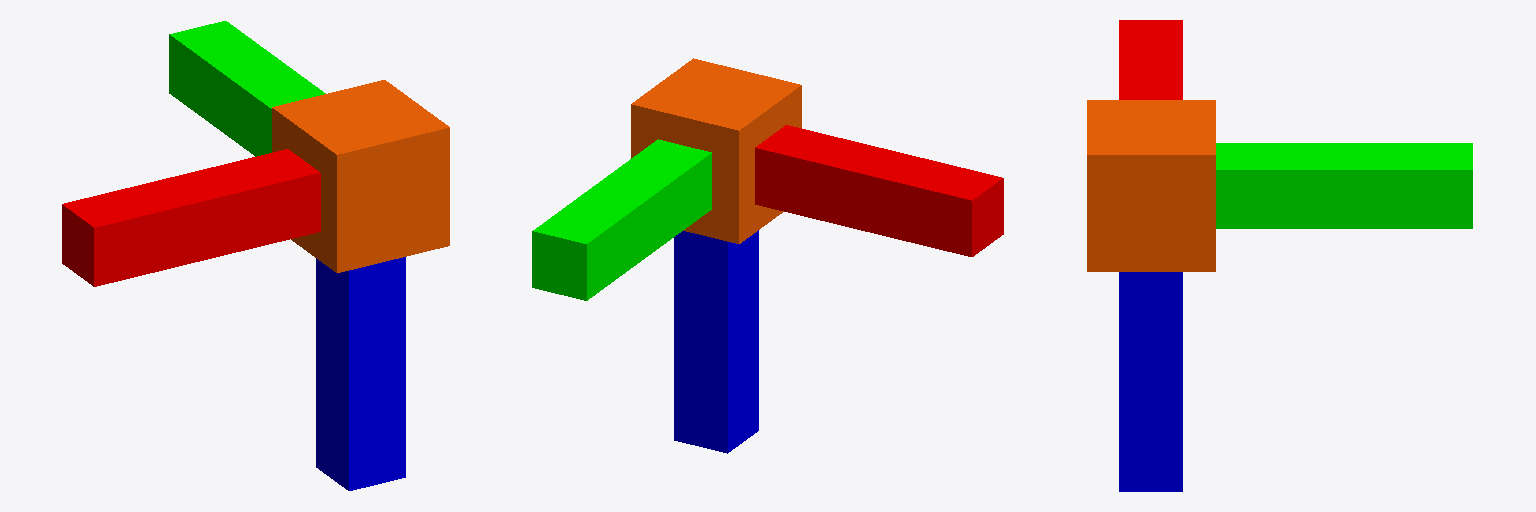
The robot description file, URDF, robot "lbr_iiwa":
<?xml version="1.0" ?>
<!-- ======================================================================= -->
<!-- | This document was autogenerated by xacro from lbr_iiwa.urdf.xacro   | -->
<!-- | Original xacro: https://github.com/rtkg/lbr_iiwa/archive/master.zip | -->
<!-- | EDITING THIS FILE BY HAND IS NOT RECOMMENDED                        | -->
<!-- | Changes ([author]):                                                 | -->
<!-- |   * Removed gazebo tags.                                            | -->
<!-- |   * Removed unused materials.                                       | -->
<!-- |   * Made mesh paths relative.                                       | -->
<!-- |   * Removed material fields from collision segments.                | -->
<!-- |   * Removed the self_collision_checking segment.                    | -->
<!-- |   * Removed transmission segments, since they didn't match the      | -->
<!-- |     convention, will have to added back later.                      | -->
<!-- ======================================================================= -->
<!--LICENSE:                                                                 -->
<!--Copyright (c) 2015, [author] & [author], AASS Research Center,  -->
<!--Orebro University, Sweden                                                -->
<!--All rights reserved.                                                     -->
<!--                                                                         -->
<!--Redistribution and use in source and binary forms, with or without       -->
<!--modification, are permitted provided that the following conditions are   -->
<!--met:                                                                     -->
<!--                                                                         -->
<!--1. Redistributions of source code must retain the above copyright notice,-->
<!--   this list of conditions and the following disclaimer.                 -->
<!--                                                                         -->
<!--2. Redistributions in binary form must reproduce the above copyright     -->
<!--   notice, this list of conditions and the following disclaimer in the   -->
<!--   documentation and/or other materials provided with the distribution.  -->
<!--                                                                         -->
<!--THIS SOFTWARE IS PROVIDED BY THE COPYRIGHT [author] "AS  -->
<!--IS" AND ANY EXPRESS OR IMPLIED WARRANTIES, INCLUDING, BUT NOT LIMITED TO,-->
<!--THE IMPLIED WARRANTIES OF MERCHANTABILITY AND FITNESS FOR A PARTICULAR   -->
<!--PURPOSE ARE DISCLAIMED. IN NO EVENT SHALL THE COPYRIGHT [author]        -->
<!--CONTRIBUTORS BE LIABLE FOR ANY DIRECT, INDIRECT, INCIDENTAL, SPECIAL,    -->
<!--EXEMPLARY, OR CONSEQUENTIAL DAMAGES (INCLUDING, BUT NOT LIMITED TO,      -->
<!--PROCUREMENT OF SUBSTITUTE GOODS OR SERVICES; LOSS OF USE, DATA, OR       -->
<!--PROFITS; OR BUSINESS INTERRUPTION) HOWEVER CAUSED AND ON ANY THEORY OF   -->
<!--LIABILITY, WHETHER IN CONTRACT, STRICT LIABILITY, OR TORT (INCLUDING     -->
<!--NEGLIGENCE OR OTHERWISE) ARISING IN ANY WAY OUT OF THE USE OF THIS       -->
<!--SOFTWARE, EVEN IF ADVISED OF THE POSSIBILITY OF SUCH DAMAGE.             -->
<robot name="lbr_iiwa" xmlns:xacro="http://www.ros.org/wiki/xacro">
  <!-- Import Rviz colors -->
  <material name="Grey">
    <color rgba="0.2 0.2 0.2 1.0"/>
  </material>
  <material name="Orange">
    <color rgba="1.0 0.423529411765 0.0392156862745 1.0"/>
  </material>
  <material name="Blue">
    <color rgba="0.5 0.7 1.0 1.0"/>
  </material>
  <material name="White">
    <color rgba="0.9 0.85 0.9 1.0"/>
    <diffuse>0.9 0.9 0.9 1</diffuse>
    <specular>0.1 0.1 0.1 1</specular>
  </material>
  <material name="marker_red">
    <color rgba="1.0 0.0 0.0 1.0"/>
  </material>
  <material name="marker_green">
    <color rgba="0.0 1.0 0.0 1.0"/>
  </material>
  <material name="marker_blue">
    <color rgba="0.0 0.0 1.0 1.0"/>
  </material>
  <!--Import the lbr iiwa macro -->
  <!--Import Transmissions -->
  <!--Include Utilities -->
  <!--The following macros are adapted from the LWR 4 definitions of the RCPRG - https://github.com/RCPRG-ros-pkg/lwr_robot -->
  <!--Little helper macros to define the inertia matrix needed for links.-->
  <!--Cuboid-->
  <!--Cylinder: length is along the y-axis! -->
  <!--lbr-->
  <link name="lbr_iiwa_link_0">
    <inertial>
      <origin rpy="0 0 0" xyz="-0.1 0 0.07"/>
      <!--Increase mass from 5 Kg original to provide a stable base to carry the
          arm.-->
      <mass value="0.0"/>
      <inertia ixx="0.05" ixy="0" ixz="0" iyy="0.06" iyz="0" izz="0.03"/>
    </inertial>
    <visual>
      <origin rpy="0 0 0" xyz="0 0 0"/>
      <geometry>
        <mesh filename="meshes/link_0.obj"/>
      </geometry>
      <material name="Grey"/>
    </visual>
    <collision>
      <origin rpy="0 0 0" xyz="0 0 0"/>
      <geometry>
        <mesh filename="meshes/link_0.stl"/>
      </geometry>
    </collision>
  </link>
  <!-- joint between link_0 and link_1 -->
  <joint name="lbr_iiwa_joint_1" type="revolute">
    <parent link="lbr_iiwa_link_0"/>
    <child link="lbr_iiwa_link_1"/>
    <origin rpy="0 0 0" xyz="0 0 0.1575"/>
    <axis xyz="0 0 1"/>
    <limit effort="300" lower="-2.96705972839" upper="2.96705972839" velocity="10"/>
    <dynamics damping="0.5"/>
  </joint>
  <link name="lbr_iiwa_link_1">
    <inertial>
      <origin rpy="0 0 0" xyz="0 -0.03 0.12"/>
      <mass value="4"/>
      <inertia ixx="0.1" ixy="0" ixz="0" iyy="0.09" iyz="0" izz="0.02"/>
    </inertial>
    <visual>
      <origin rpy="0 0 0" xyz="0 0 0"/>
      <geometry>
        <mesh filename="meshes/link_1.obj"/>
      </geometry>
      <material name="Blue"/>
    </visual>
    <collision>
      <origin rpy="0 0 0" xyz="0 0 0"/>
      <geometry>
        <mesh filename="meshes/link_1.stl"/>
      </geometry>
    </collision>
  </link>
  <!-- joint between link_1 and link_2 -->
  <joint name="lbr_iiwa_joint_2" type="revolute">
    <parent link="lbr_iiwa_link_1"/>
    <child link="lbr_iiwa_link_2"/>
    <origin rpy="1.57079632679   0 3.14159265359" xyz="0 0 0.2025"/>
    <axis xyz="0 0 1"/>
    <limit effort="300" lower="-2.09439510239" upper="2.09439510239" velocity="10"/>
    <dynamics damping="0.5"/>
  </joint>
  <link name="lbr_iiwa_link_2">
    <inertial>
      <origin rpy="0 0 0" xyz="0.0003 0.059 0.042"/>
      <mass value="4"/>
      <inertia ixx="0.05" ixy="0" ixz="0" iyy="0.018" iyz="0" izz="0.044"/>
    </inertial>
    <visual>
      <origin rpy="0 0 0" xyz="0 0 0"/>
      <geometry>
        <mesh filename="meshes/link_2.obj"/>
      </geometry>
      <material name="Blue"/>
    </visual>
    <collision>
      <origin rpy="0 0 0" xyz="0 0 0"/>
      <geometry>
        <mesh filename="meshes/link_2.stl"/>
      </geometry>
    </collision>
  </link>
  <!-- joint between link_2 and link_3 -->
  <joint name="lbr_iiwa_joint_3" type="revolute">
    <parent link="lbr_iiwa_link_2"/>
    <child link="lbr_iiwa_link_3"/>
    <origin rpy="1.57079632679 0 3.14159265359" xyz="0 0.2045 0"/>
    <axis xyz="0 0 1"/>
    <limit effort="300" lower="-2.96705972839" upper="2.96705972839" velocity="10"/>
    <dynamics damping="0.5"/>
  </joint>
  <link name="lbr_iiwa_link_3">
    <inertial>
      <origin rpy="0 0 0" xyz="0 0.03 0.13"/>
      <mass value="3"/>
      <inertia ixx="0.08" ixy="0" ixz="0" iyy="0.075" iyz="0" izz="0.01"/>
    </inertial>
    <visual>
      <origin rpy="0 0 0" xyz="0 0 0"/>
      <geometry>
        <mesh filename="meshes/link_3.obj"/>
      </geometry>
      <material name="Orange"/>
    </visual>
    <collision>
      <origin rpy="0 0 0" xyz="0 0 0"/>
      <geometry>
        <mesh filename="meshes/link_3.stl"/>
      </geometry>
    </collision>
  </link>
  <!-- joint between link_3 and link_4 -->
  <joint name="lbr_iiwa_joint_4" type="revolute">
    <parent link="lbr_iiwa_link_3"/>
    <child link="lbr_iiwa_link_4"/>
    <origin rpy="1.57079632679 0 0" xyz="0 0 0.2155"/>
    <axis xyz="0 0 1"/>
    <limit effort="300" lower="-2.09439510239" upper="2.09439510239" velocity="10"/>
    <dynamics damping="0.5"/>
  </joint>
  <link name="lbr_iiwa_link_4">
    <inertial>
      <origin rpy="0 0 0" xyz="0 0.067 0.034"/>
      <mass value="2.7"/>
      <inertia ixx="0.03" ixy="0" ixz="0" iyy="0.01" iyz="0" izz="0.029"/>
    </inertial>
    <visual>
      <origin rpy="0 0 0" xyz="0 0 0"/>
      <geometry>
        <mesh filename="meshes/link_4.obj"/>
      </geometry>
      <material name="Blue"/>
    </visual>
    <collision>
      <origin rpy="0 0 0" xyz="0 0 0"/>
      <geometry>
        <mesh filename="meshes/link_4.stl"/>
      </geometry>
    </collision>
  </link>
  <!-- joint between link_4 and link_5 -->
  <joint name="lbr_iiwa_joint_5" type="revolute">
    <parent link="lbr_iiwa_link_4"/>
    <child link="lbr_iiwa_link_5"/>
    <origin rpy="-1.57079632679 3.14159265359 0" xyz="0 0.1845 0"/>
    <axis xyz="0 0 1"/>
    <limit effort="300" lower="-2.96705972839" upper="2.96705972839" velocity="10"/>
    <dynamics damping="0.5"/>
  </joint>
  <link name="lbr_iiwa_link_5">
    <inertial>
      <origin rpy="0 0 0" xyz="0.0001 0.021 0.076"/>
      <mass value="1.7"/>
      <inertia ixx="0.02" ixy="0" ixz="0" iyy="0.018" iyz="0" izz="0.005"/>
    </inertial>
    <visual>
      <origin rpy="0 0 0" xyz="0 0 0"/>
      <geometry>
        <mesh filename="meshes/link_5.obj"/>
      </geometry>
      <material name="Blue"/>
    </visual>
    <collision>
      <origin rpy="0 0 0" xyz="0 0 0"/>
      <geometry>
        <mesh filename="meshes/link_5.stl"/>
      </geometry>
    </collision>
  </link>
  <!-- joint between link_5 and link_6 -->
  <joint name="lbr_iiwa_joint_6" type="revolute">
    <parent link="lbr_iiwa_link_5"/>
    <child link="lbr_iiwa_link_6"/>
    <origin rpy="1.57079632679 0 0" xyz="0 0 0.2155"/>
    <axis xyz="0 0 1"/>
    <limit effort="300" lower="-2.09439510239" upper="2.09439510239" velocity="10"/>
    <dynamics damping="0.5"/>
  </joint>
  <link name="lbr_iiwa_link_6">
    <inertial>
      <origin rpy="0 0 0" xyz="0 0.0006 0.0004"/>
      <mass value="1.8"/>
      <inertia ixx="0.005" ixy="0" ixz="0" iyy="0.0036" iyz="0" izz="0.0047"/>
    </inertial>
    <visual>
      <origin rpy="0 0 0" xyz="0 0 0"/>
      <geometry>
        <mesh filename="meshes/link_6.obj"/>
      </geometry>
      <material name="Orange"/>
    </visual>
    <collision>
      <origin rpy="0 0 0" xyz="0 0 0"/>
      <geometry>
        <mesh filename="meshes/link_6.stl"/>
      </geometry>
    </collision>
  </link>
  <!-- joint between link_6 and link_7 -->
  <joint name="lbr_iiwa_joint_7" type="revolute">
    <parent link="lbr_iiwa_link_6"/>
    <child link="lbr_iiwa_link_7"/>
    <origin rpy="-1.57079632679 3.14159265359 0" xyz="0 0.081 0"/>
    <axis xyz="0 0 1"/>
    <limit effort="300" lower="-3.05432619099" upper="3.05432619099" velocity="10"/>
    <dynamics damping="0.5"/>
  </joint>
  <link name="lbr_iiwa_link_7">
    <inertial>
      <origin rpy="0 0 0" xyz="0 0 0.02"/>
      <mass value="0.3"/>
      <inertia ixx="0.001" ixy="0" ixz="0" iyy="0.001" iyz="0" izz="0.001"/>
    </inertial>
    <visual>
      <origin rpy="0 0 0" xyz="0 0 0"/>
      <geometry>
        <mesh filename="meshes/link_7.obj"/>
      </geometry>
      <material name="Grey"/>
    </visual>
    <collision>
      <origin rpy="0 0 0" xyz="0 0 0"/>
      <geometry>
        <mesh filename="meshes/link_7.stl"/>
      </geometry>
    </collision>
  </link>

  <joint name="world_joint" type="fixed">
    <parent link="lbr_iiwa_link_7"/>
    <child link="world_link"/>
    <origin rpy="0 3.14159265359 0" xyz="0 0 0.045"/>
    <axis xyz="0 0 1"/>
  </joint>
  <link name="world_link">
    <inertial>
      <origin rpy="0 0 0" xyz="0 0 0"/>
      <mass value="0.001"/>
      <inertia ixx="0.0001" ixy="0" ixz="0" iyy="0.0001" iyz="0" izz="0.0001"/>
    </inertial>
    <visual>
      <origin rpy="0 0 0" xyz="0 0 0"/>
      <geometry>
        <box size="0.002 0.002 0.002"/>
      </geometry>
      <material name="Orange"/>
    </visual>
  </link>

  <joint name="tcp_joint" type="fixed">
    <parent link="world_link"/>
    <child link="tcp_link"/>
    <origin rpy="0 0 0" xyz="0 0 0"/>
    <axis xyz="0 0 1"/>
  </joint>
  <link name="tcp_link">
    <inertial>
      <origin rpy="0 0 0" xyz="0 0 0"/>
      <mass value="0.001"/>
      <inertia ixx="0.0001" ixy="0" ixz="0" iyy="0.0001" iyz="0" izz="0.0001"/>
    </inertial>
    <visual>
      <origin rpy="0 0 0" xyz="0 0 0"/>
      <geometry>
        <box size="0.002 0.002 0.002"/>
      </geometry>
      <material name="Orange"/>
    </visual>
  </link>

  <link name="marker_origin">
    <visual>
      <geometry>
        <box size="0.002 0.002 0.002"/>
      </geometry>
      <origin xyz="0 0 0" rpy="0 0 0"/>
      <material name="White"/>
    </visual>
    <inertial>
      <origin xyz="0 0 0" rpy="0 0 0"/>
      <mass value="0.001"/>
      <inertia ixx="0.00001" ixy="0" ixz="0"
        iyy="0.00001" iyz="0"
        izz="0.00001"/>
    </inertial>
  </link>

  <link name="marker_x">
    <visual>
      <geometry>
        <box size="0.005 0.001 0.001"/>
      </geometry>
      <origin xyz="0 0 0" rpy="0 0 0"/>
      <material name="marker_red"/>
    </visual>
    <inertial>
      <origin xyz="0 0 0" rpy="0 0 0"/>
      <mass value="0.001"/>
      <inertia ixx="0.00001" ixy="0" ixz="0"
        iyy="0.00001" iyz="0"
        izz="0.00001"/>
    </inertial>
  </link>
  <link name="marker_y">
    <visual>
      <geometry>
        <box size="0.001 0.005 0.001"/>
      </geometry>
      <origin xyz="0 0 0" rpy="0 0 0"/>
      <material name="marker_green"/>
    </visual>
    <inertial>
      <origin xyz="0 0 0" rpy="0 0 0"/>
      <mass value="0.001"/>
      <inertia ixx="0.00001" ixy="0" ixz="0"
        iyy="0.00001" iyz="0"
        izz="0.00001"/>
    </inertial>
  </link>
  <link name="marker_z">
    <visual>
      <geometry>
        <box size="0.001 0.001 0.005"/>
      </geometry>
      <origin xyz="0 0 0" rpy="0 0 0"/>
      <material name="marker_blue"/>
    </visual>
    <inertial>
      <origin xyz="0 0 0" rpy="0 0 0"/>
      <mass value="0.001"/>
      <inertia ixx="0.00001" ixy="0" ixz="0"
        iyy="0.00001" iyz="0"
        izz="0.00001"/>
    </inertial>
  </link>

  <joint name="connector_origin" type="fixed">
    <parent link="tcp_link"/>
    <child  link="marker_origin"/>
    <origin xyz="0.0 0.0 0.0" rpy="0 0 0"/>
  </joint>
  <joint name="marker_origin_x" type="fixed">
    <parent link="marker_origin"/>
    <child  link="marker_x"/>
    <origin xyz="0.0025 0.0 0.0" rpy="0 0 0"/>
  </joint>
  <joint name="marker_origin_y" type="fixed">
    <parent link="marker_origin"/>
    <child  link="marker_y"/>
    <origin xyz="0.0 0.0025 0.0" rpy="0 0 0"/>
  </joint>
  <joint name="marker_origin_z" type="fixed">
    <parent link="marker_origin"/>
    <child  link="marker_z"/>
    <origin xyz="0.0 0.0 0.0025" rpy="0 0 0"/>
  </joint>


</robot>

--- What the picture shows (computed from the rendered views, not written in the file) ---
Views: 3 orthographic renders of the robot side by side, from view 1: azimuth 30°, elevation 25°; view 2: azimuth 150°, elevation 25°; view 3: azimuth 270°, elevation 25°.
Robot: lbr_iiwa — 14 links, 13 joints (7 revolute, 6 fixed); root link lbr_iiwa_link_0; default pose: every joint at zero.
Links seen in each view (by area): view 1: world_link, marker_x, marker_z, marker_y; view 2: marker_x, marker_z, marker_y, world_link; view 3: world_link, marker_y, marker_z, marker_x.
Link boxes in pixels (box(x1,y1,x2,y2)): world_link: box(272, 80, 449, 272); marker_x: box(62, 149, 320, 286); marker_z: box(316, 257, 405, 490); marker_y: box(169, 21, 325, 156); marker_x: box(755, 125, 1003, 256); marker_z: box(674, 230, 758, 453); marker_y: box(532, 139, 711, 300); world_link: box(631, 58, 801, 243); world_link: box(1087, 100, 1215, 271); marker_y: box(1216, 143, 1472, 228); marker_z: box(1119, 272, 1182, 491); marker_x: box(1119, 20, 1182, 99).
Size in the robot's own frame: 0.006 by 0.006 by 0.006 metres.
0 mesh visuals loaded from 8 distinct referenced files (none loaded); not drawn: 8 (reference not matched to a file when rendering).